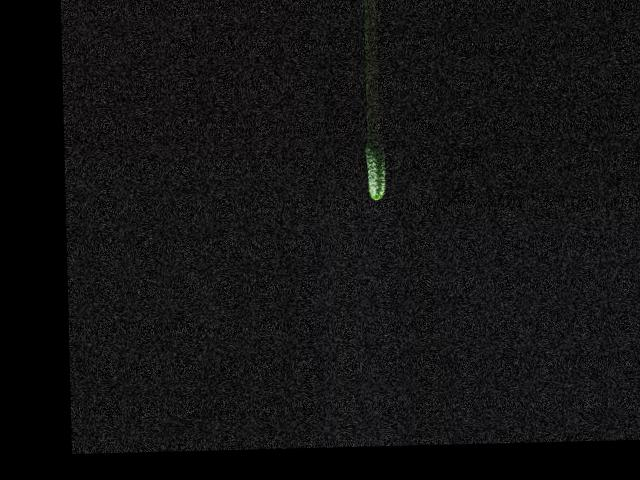cucumber: (364, 141, 386, 200)
